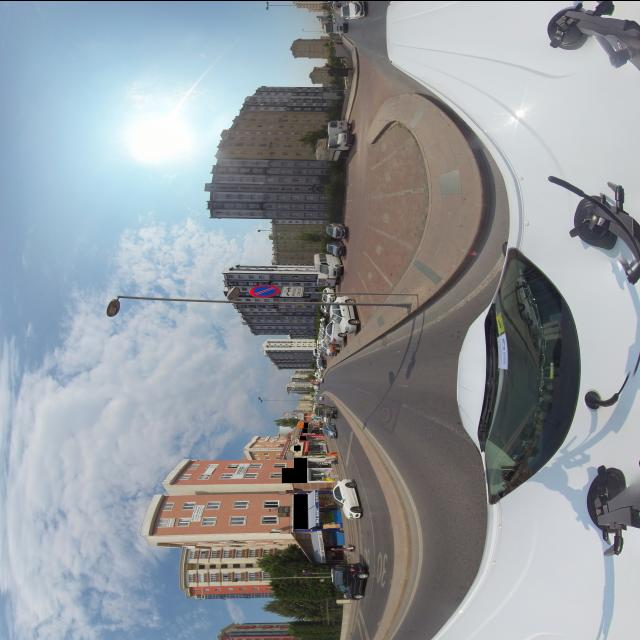SignStore: (294, 493, 308, 529), (294, 457, 307, 482), (282, 467, 295, 482), (294, 445, 301, 450), (300, 435, 306, 440), (303, 427, 307, 432), (304, 422, 308, 427)
